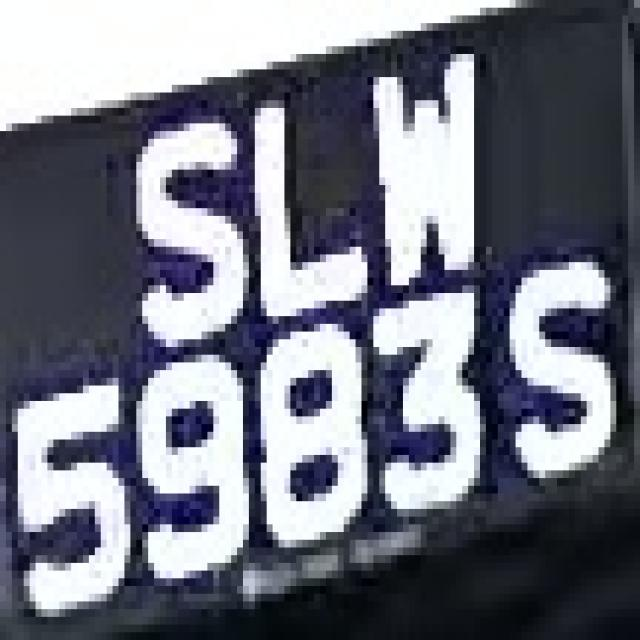3: (350, 262, 480, 524)
5: (0, 362, 136, 639)
8: (243, 324, 385, 555)
9: (118, 339, 255, 586)
L: (249, 85, 379, 347)
S: (113, 85, 243, 362), (486, 231, 622, 486)
W: (355, 46, 492, 278)
